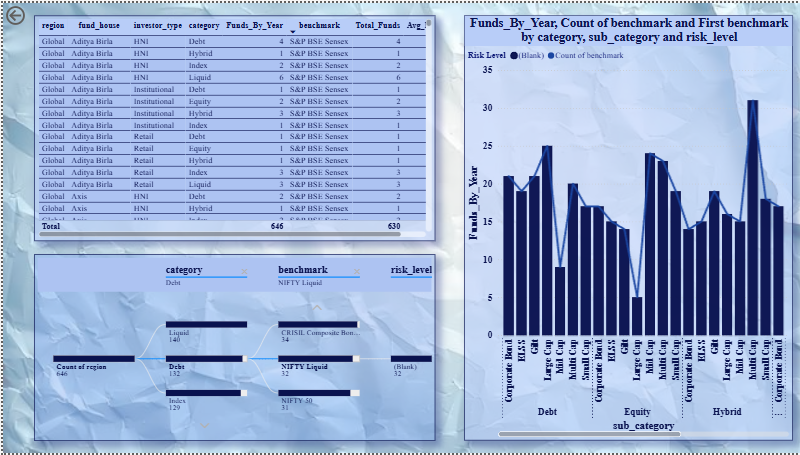

The page's visual inventory and layout, read from the dashboard file:
{"tool":"powerbi","page":{"name":"Drill Through","canvas":[1280,720],"ordinal":2},"visuals":[{"type":"tableEx","fields":{"Values":["Fact_MutualFund.region","Fact_MutualFund.fund_house","Fact_MutualFund.investor_type","Fact_MutualFund.category","Fact_MutualFund.Funds_By_Year","Dim_Benchmark.benchmark","Fact_MutualFund.Total_Funds","Fact_MutualFund.Avg_Rating"]},"box":[50.1,19.6,642,360.7],"z":0},{"type":"actionButton","box":[0,0,100,40],"z":1000},{"type":"decompositionTreeVisual","fields":{"Analyze":["CountNonNull(Fact_MutualFund.region)"],"ExplainBy":["Fact_MutualFund.category","Dim_Benchmark.benchmark","Dim_Fund.risk_level"]},"box":[50.1,401.1,642,298.4],"z":2000},{"type":"lineClusteredColumnComboChart","fields":{"Series":["Dim_Fund.risk_level"],"Category":["Fact_MutualFund.category Hierarchy.category","Fact_MutualFund.category Hierarchy.sub_category"],"Y":["Fact_MutualFund.Funds_By_Year"],"Y2":["CountNonNull(Fact_MutualFund.benchmark)"]},"box":[738.6,19.6,525.8,679.9],"z":3000}]}

Visuals, with their boxes in screenshot pixels (x1, y1, x2, y2), scaled from the page's 1280x720 canvas onto the 800x455 screenshot:
tableEx - Fact_MutualFund.region x Fact_MutualFund.fund_house: Rect(31, 12, 433, 240)
actionButton: Rect(0, 0, 62, 25)
decompositionTreeVisual - CountNonNull(Fact_MutualFund.region) x Fact_MutualFund.category: Rect(31, 253, 433, 442)
lineClusteredColumnComboChart - Dim_Fund.risk_level x Fact_MutualFund.category Hierarchy.category: Rect(462, 12, 790, 442)
